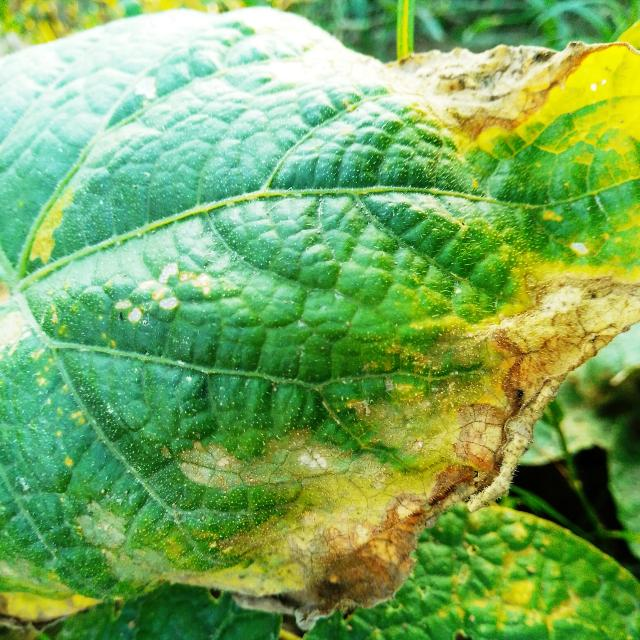Gummy-Stem-Blight: (70, 269, 640, 639), (354, 39, 638, 145)
